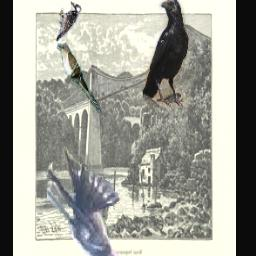Crow: (142, 0, 188, 108)
Cuckoo: (56, 43, 102, 116)
Swallow: (47, 146, 122, 256)
Woodpecker: (56, 2, 81, 42)
